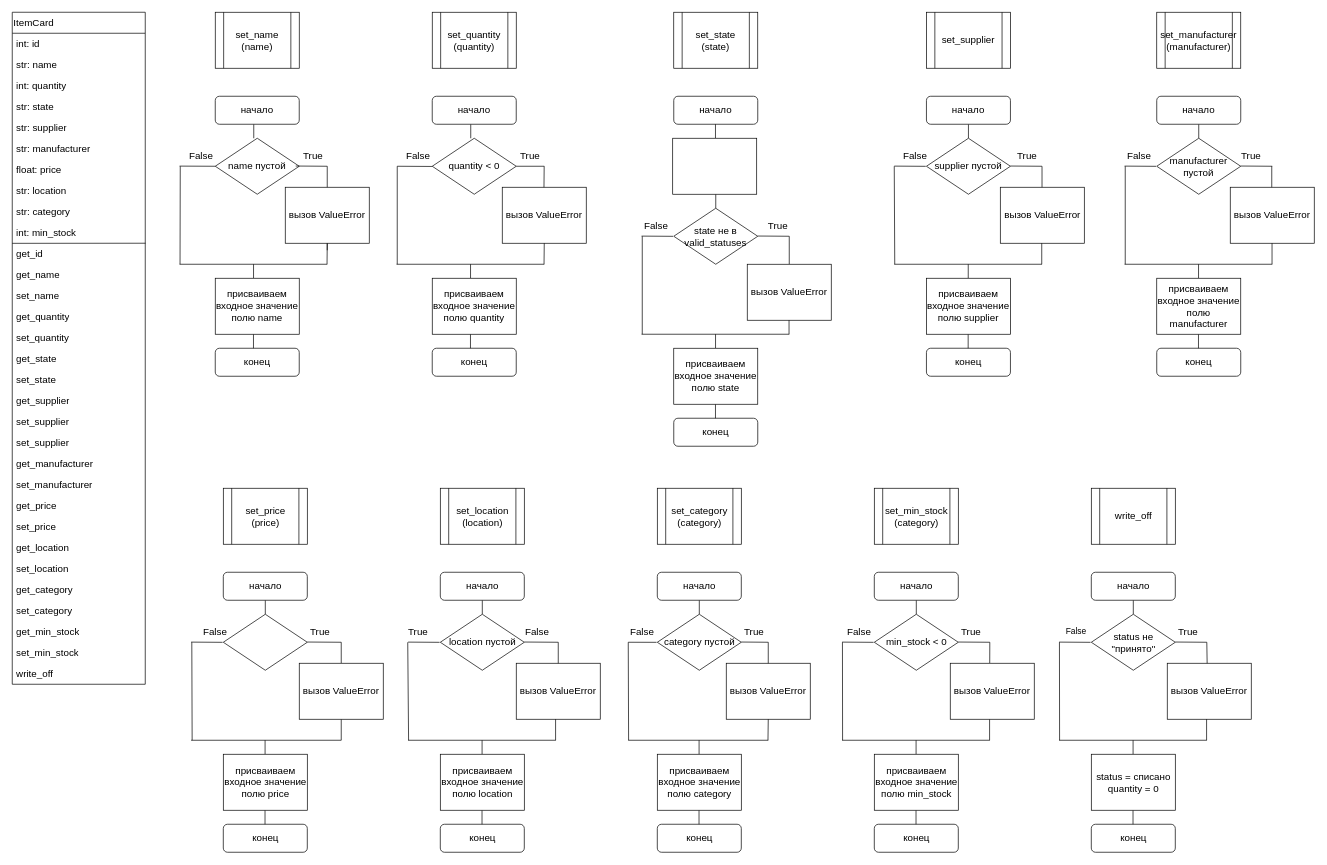
Some shapes in this 1327 by 865 pixel diagram are drawn without their labels. The centre of each missing label's shape, as x and y in pixels:
price < 0: point (265, 642)
valid_statuses = принято, зарезервировано, списано: point (714, 166)
